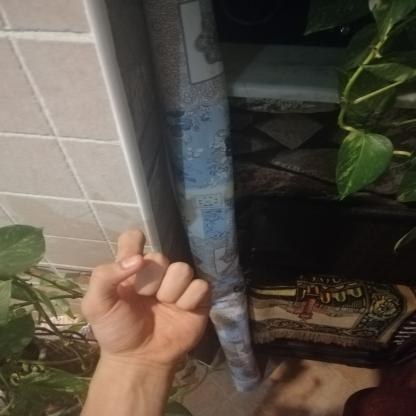FAA: (67, 223, 227, 376)
